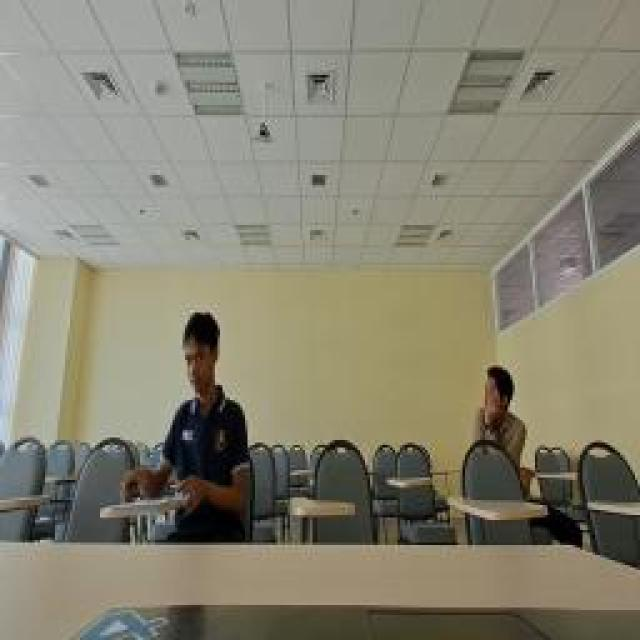study: (122, 282, 252, 540), (470, 360, 535, 498)
